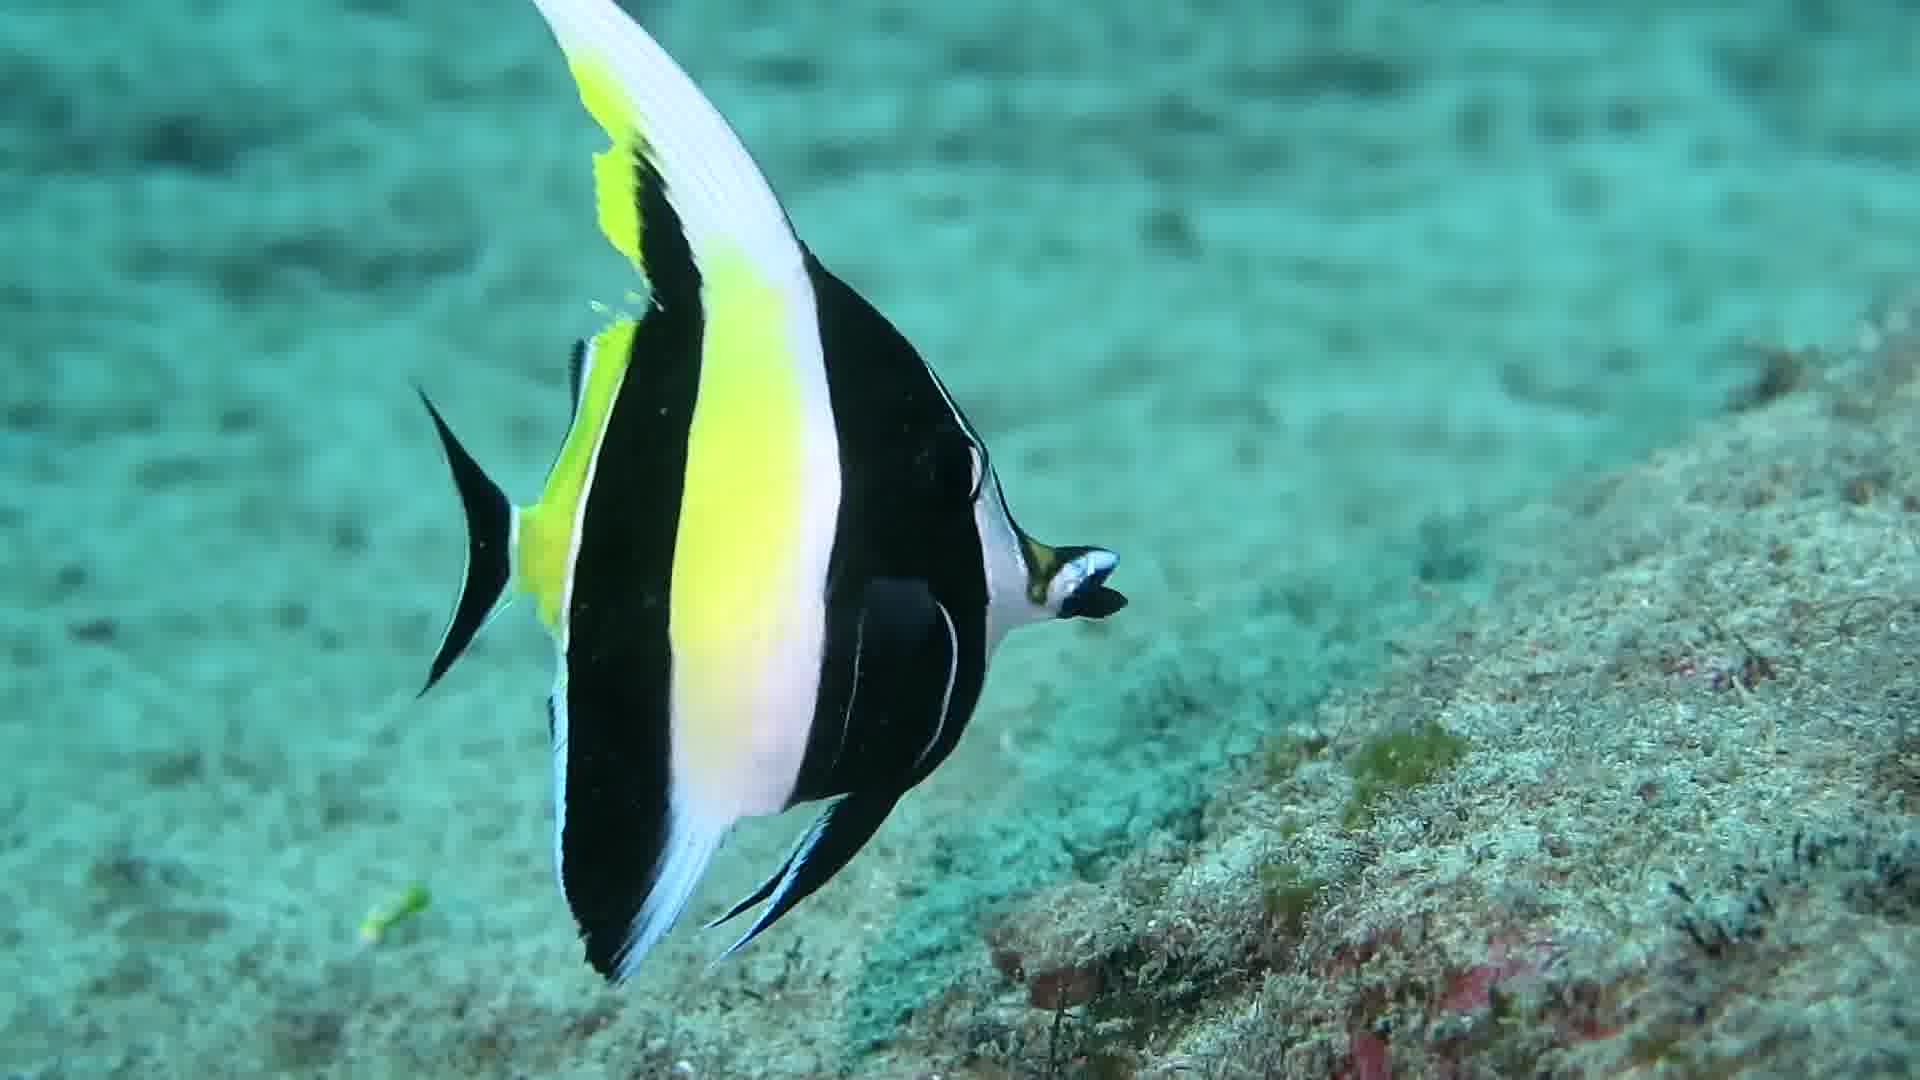Zanclus cornutus: (409, 171, 1141, 944)
